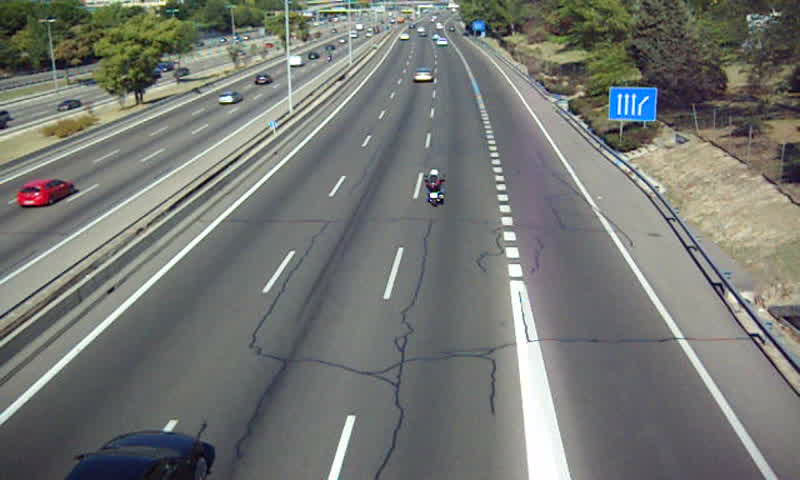car: (411, 69, 433, 85)
motorcycle: (425, 169, 447, 204)
